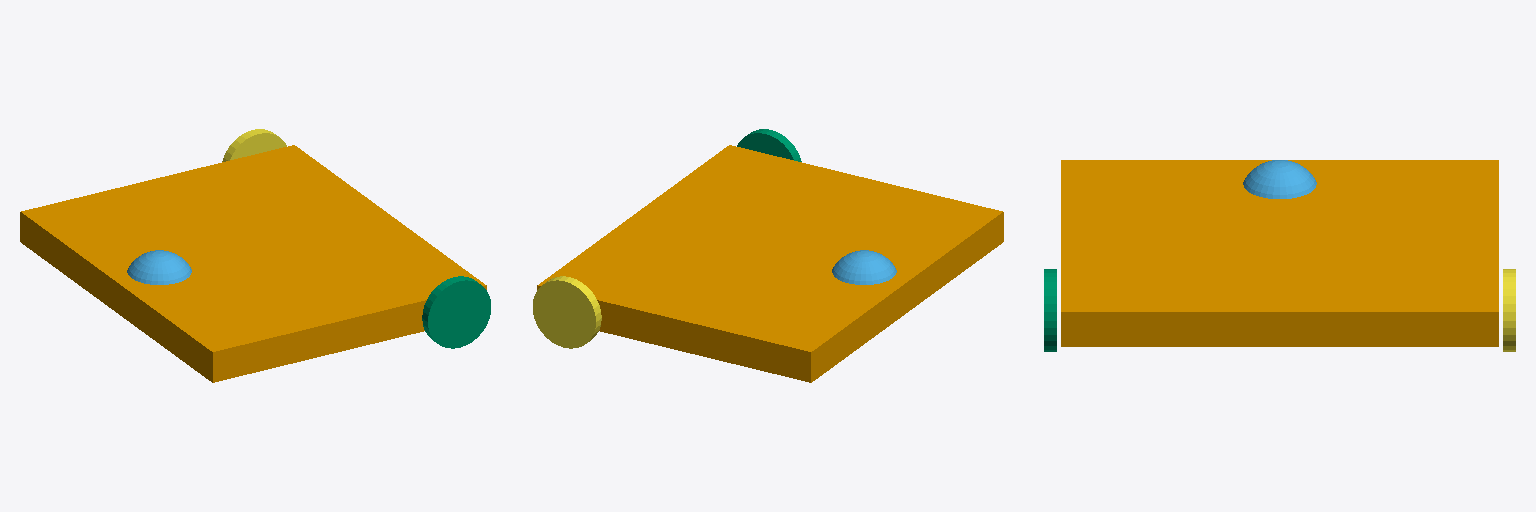
The robot description file, URDF, robot "icart":
<?xml version="1.0"?>
<robot name="icart">
  <!--visual&collision define-->
  <!--simple_icart_body-->
  <link name="base_link">
    <visual>
      <geometry>
        <!--<mesh filename="package://icart_description/mesh/DAE/i-Cart_body.dae"/>-->
        <box size="0.280 0.340 0.030"/>
      </geometry>
    </visual>

    <collision>
      <geometry>
        <!--<mesh filename="package://icart_description/mesh/DAE/i-Cart_body.dae"/>-->
        <box size="0.280 0.340 0.030"/>
      </geometry>
    </collision>

    <inertial>
      <origin xyz="0 0 0"/>
      <mass value="0.500"/>
      <inertia ixx="0.0020833333" ixy="0" ixz="0" iyy="0.0070833333" iyz="0" izz="0.0083333333"/>
    </inertial>
  </link>

  <!--simple_icart_caster-->
  <link name="caster_link">
    <visual>
      <geometry>
        <!--<mesh filename="package://icart_description/mesh/DAE/i-Cart_caster.dae"/>-->
        <sphere radius="0.0325"/>
      </geometry>
    </visual>

    <collision>
      <geometry>
        <!--<mesh filename="package://icart_description/mesh/DAE/i-Cart_caster.dae"/>-->
        <sphere radius="0.0325"/>
      </geometry>
    </collision>

    <inertial>
      <origin xyz="0 0 0"/>
      <mass value="0.500"/>
      <inertia ixx="0.00025" ixy="0" ixz="0" iyy="0.00025"  iyz="0" izz="0.00025"/>
     </inertial>

  </link>

  <!--simple_icart_right_wheel-->
  <link name="right_wheel_link">
    <visual>
      <geometry>
        <!--<mesh filename="package://icart_description/mesh/DAE/i-Cart_right_wheel.dae"/>-->
        <cylinder radius="0.0325" length="0.01"/>
      </geometry>
      <origin xyz="0 0 0" rpy="0 0 0"/>
      <material name="black"/>
    </visual>

    <collision>
      <geometry>
        <!--<mesh filename="package://icart_description/mesh/DAE/i-Cart_right_wheel.dae"/>-->
        <cylinder radius="0.0325" length="0.01"/>
      </geometry>
    </collision>

    <inertial>
      <origin xyz="0 0 0"/>
      <mass value="0.500"/>
      <inertia ixx="0.0013541667" ixy="0" ixz="0" iyy="0.0013541667" iyz="0" izz="0.0025"/>
   </inertial>
  </link>

  <!--simple_icart_left_wheel-->
  <link name="left_wheel_link">
    <visual>
      <geometry>
        <!--<mesh filename="package://icart_description/mesh/DAE/i-Cart_left_wheel.dae"/>-->
        <cylinder radius="0.0325" length="0.01"/>
      </geometry>
      <origin xyz="0 0 0" rpy="0 0 0"/>
      <material name="black"/>
    </visual>

    <collision>
      <geometry>
        <!--<mesh filename="package://icart_description/mesh/DAE/i-Cart_left_wheel.dae"/>-->
        <cylinder radius="0.0325" length="0.01"/>
      </geometry>
    </collision>

    <inertial>
      <origin xyz="0 0 0"/>
      <mass value="0.500"/>
      <inertia ixx="0.0013541667" ixy="0" ixz="0" iyy="0.0013541667" iyz="0" izz="0.0025"/>
   </inertial>
  </link>

  <!-- Hokuyo Laser -->
  <link name="hokuyo_link">
    <collision>
      <origin xyz="0 0 0" rpy="0 0 0"/>
      <geometry>
        <box size="0.1 0.1 0.1"/>
      </geometry>
    </collision>

    <visual>
      <origin xyz="0 0 0" rpy="0 0 0"/>
      <geometry>
        <mesh filename="package://rrbot_description/meshes/hokuyo.dae"/>
      </geometry>
    </visual>

    <inertial>
      <mass value="1e-5" />
      <origin xyz="0 0 0" rpy="0 0 0"/>
      <inertia ixx="1e-6" ixy="0" ixz="0" iyy="1e-6" iyz="0" izz="1e-6" />
    </inertial>
  </link>


  <!--joint define-->
  <!--base_link to caster-->
  <joint name="caster_joint" type="fixed">
    <parent link="base_link"/>
    <child link="caster_link"/>
    <origin xyz="-0.096 0 0.0" rpy="0 0 0"/>
  </joint>

  <!--base_link to left_wheel-->
  <joint name="left_wheel_joint" type="continuous">
    <parent link="base_link"/>
    <child link="left_wheel_link"/>
    <origin xyz="0.105 0.178 0" rpy="-1.5707 0 0"/>
    <axis xyz="0 0 1"/>
  </joint>

  <!--base_link to right_wheel-->
  <joint name="right_wheel_joint" type="continuous">
    <parent link="base_link"/>
    <child link="right_wheel_link"/>
    <origin xyz="0.105 -0.178 0" rpy="1.5707 0 0"/>
    <axis xyz="0 0 -1"/>
  </joint>

  <!--base_link to hokuyo-->
  <joint name="hokuyo_joint" type="fixed">
    <axis xyz="0 1 0" />
    <origin xyz="0.105 0 0.055" rpy="0 0 0"/>
    <parent link="base_link"/>
    <child link="hokuyo_link"/>
  </joint>

  <!--define base_foot-->
  <link name="base_footprint"/>
    <joint name="base_link_joint" type="fixed">
    <parent link="base_footprint"/>
    <child link="base_link"/>
    <origin xyz="-0.105 0 -0.0325"/>
  </joint>

  <!-- ===============  Transmission =============== -->

  <transmission name="left_wheel_trans">
      <type>transmission_interface/SimpleTransmission</type>
      <joint name="left_wheel_joint">
  <hardwareInterface>VelocityJointInterface</hardwareInterface>
      </joint>
   <actuator name="left_wheel_motor">
  <hardwareInterface>VelocityJointInterface</hardwareInterface>
  <mechanicalReduction>30</mechanicalReduction>
      </actuator>
 </transmission>

  <transmission name="right_wheel_trans">
       <type>transmission_interface/SimpleTransmission</type>
       <joint name="right_wheel_joint">
   <hardwareInterface>VelocityJointInterface</hardwareInterface>
       </joint>
    <actuator name="right_wheel_motor">
   <hardwareInterface>VelocityJointInterface</hardwareInterface>
   <mechanicalReduction>30</mechanicalReduction>
       </actuator>
  </transmission>



 <!-- =============== Gazebo =============== -->
  <gazebo>
    <plugin name="gazebo_ros_control" filename="libgazebo_ros_control.so">
      <robotNamespace>icart</robotNamespace>
    </plugin>
  </gazebo>

 <gazebo reference="base_link">
   <selfCollide>true</selfCollide>
    <mu1 value="0.05" />
    <mu2 value="0.05" />
  </gazebo>

 <gazebo reference="left_wheel_link">
   <selfCollide>true</selfCollide>
    <mu1 value="1.0" />
    <mu2 value="1.0" />
  </gazebo>

 <gazebo reference="right_wheel_link">
   <selfCollide>true</selfCollide>
    <mu1 value="1.0" />
    <mu2 value="1.0" />
  </gazebo>

 <gazebo reference="caster_link">
   <selfCollide>true</selfCollide>
     <!-- This caster is no frictional resistance. -->
    <mu1 value="0.0" />
    <mu2 value="0.0" />
  </gazebo>

  <!-- hokuyo -->
  <gazebo reference="hokuyo_link">
    <sensor type="ray" name="head_hokuyo_sensor">
      <pose>0 0 0 0 0 0</pose>
      <visualize>true</visualize>
      <update_rate>40</update_rate>
      <ray>
        <scan>
          <horizontal>
            <samples>720</samples>
            <resolution>1</resolution>
            <min_angle>-1.570796</min_angle>
            <max_angle>1.570796</max_angle>
          </horizontal>
        </scan>
        <range>
          <min>0.10</min>
          <max>30.0</max>
          <resolution>0.01</resolution>
        </range>
        <noise>
          <type>gaussian</type>
          <!-- Noise parameters based on published spec for Hokuyo laser
               achieving "+-30mm" accuracy at range < 10m.  A mean of 0.0m and
               stddev of 0.01m will put 99.7% of samples within 0.03m of the true
               reading. -->
          <mean>0.0</mean>
          <stddev>0.01</stddev>
        </noise>
      </ray>
      <plugin name="gazebo_ros_head_hokuyo_controller" filename="libgazebo_ros_laser.so">
        <topicName>/icart/laser/scan</topicName>
        <frameName>hokuyo_link</frameName>
      </plugin>
    </sensor>
  </gazebo>
</robot>

--- What the picture shows (computed from the rendered views, not written in the file) ---
3 views of the same robot in one strip: view 1: azimuth 30°, elevation 25°; view 2: azimuth 150°, elevation 25°; view 3: azimuth 270°, elevation 25° (orthographic).
Robot: icart — 6 links, 5 joints (2 continuous, 3 fixed); root link base_footprint; default pose: all joints at 0.
Visible links, largest first — view 1: base_link, right_wheel_link, caster_link, left_wheel_link; view 2: base_link, left_wheel_link, caster_link, right_wheel_link; view 3: base_link, caster_link, right_wheel_link, left_wheel_link.
Link boxes in pixels (x1,y1,x2,y2): base_link: (20, 145, 486, 382); right_wheel_link: (422, 276, 490, 348); caster_link: (127, 250, 191, 284); left_wheel_link: (222, 129, 286, 161); base_link: (537, 145, 1003, 382); left_wheel_link: (533, 276, 601, 348); caster_link: (832, 250, 896, 284); right_wheel_link: (737, 129, 801, 161); base_link: (1061, 160, 1498, 346); caster_link: (1243, 160, 1316, 198); right_wheel_link: (1044, 269, 1056, 351); left_wheel_link: (1503, 269, 1515, 351).
Size in the robot's own frame: 0.28 by 0.366 by 0.065 metres.
0 mesh visuals loaded from 1 distinct referenced files (none loaded); not drawn: 1 (reference not matched to a file when rendering).
